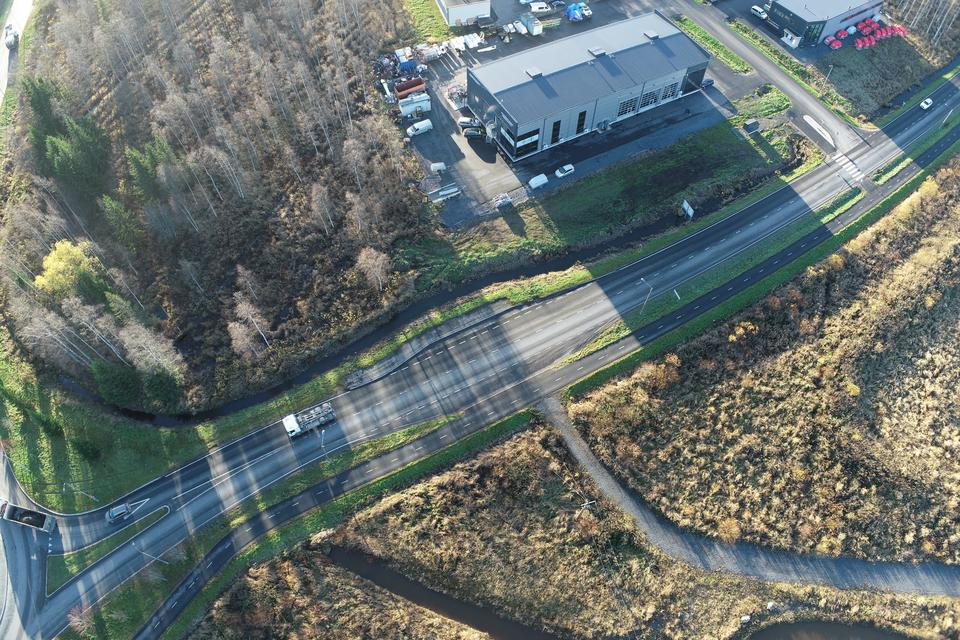intersection: (785, 107, 940, 277), (481, 282, 613, 455)
roundabout: (0, 412, 140, 640)
